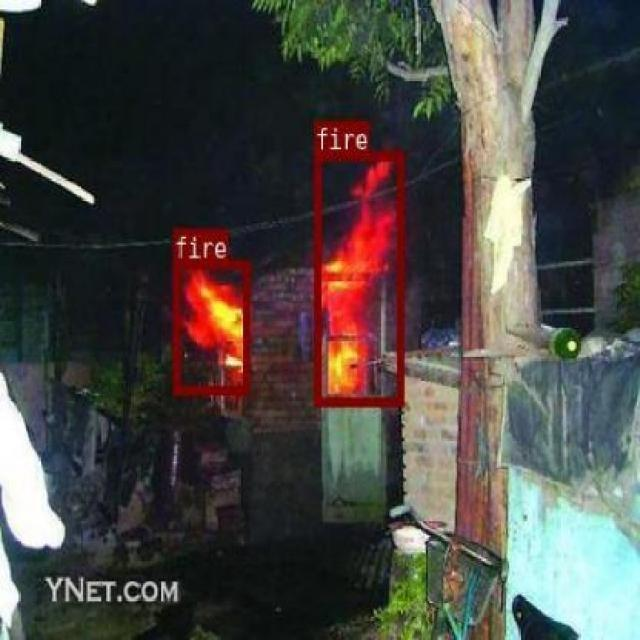fire: (313, 152, 402, 406), (172, 259, 249, 393)
